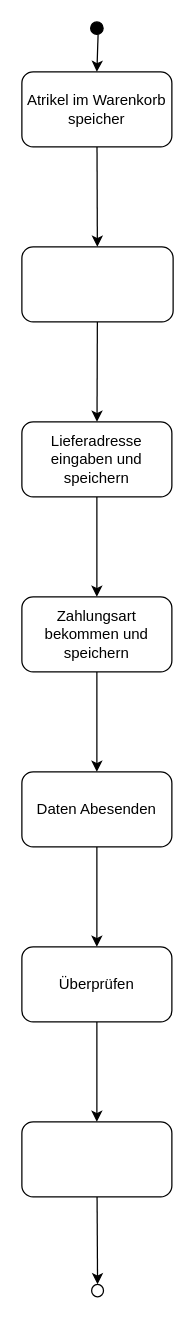
This 195x1319 diagram has some shape labels left out. The centre of each missing label's shape, as x and y in pixels:
Bestätigung senden: the point at 96,1159
Warenkorb öffnen gespeicherte Artikel laden: the point at 97,284
